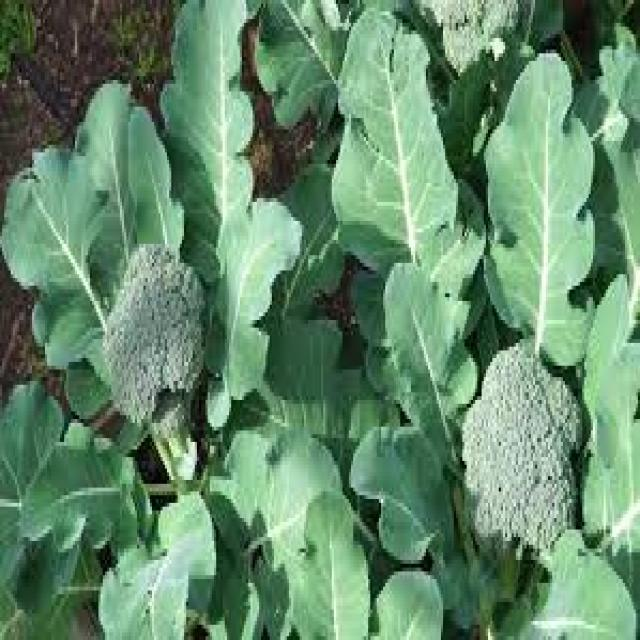broccoli: (421, 289, 622, 608), (94, 238, 232, 457)
